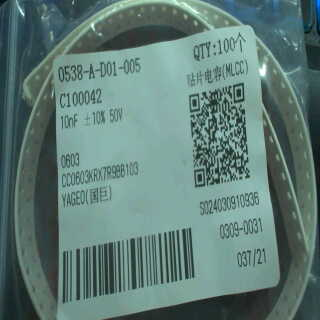10nF: (59, 108, 79, 135)
